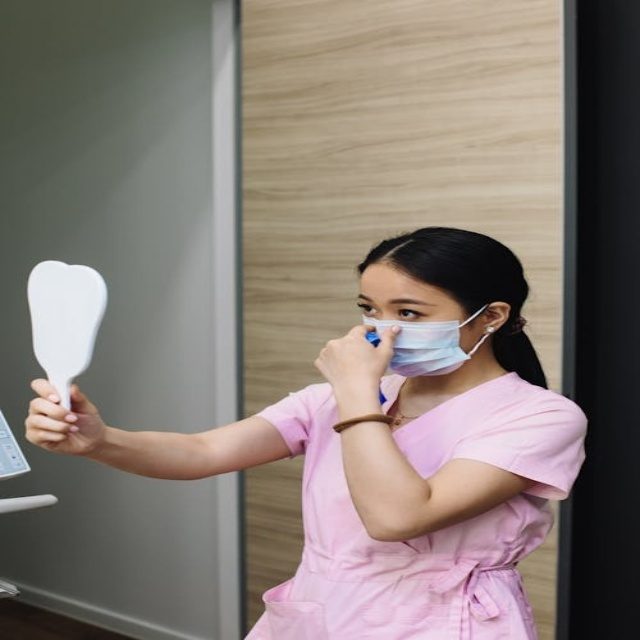Mascara: (359, 304, 487, 378)
Sin_gafas: (353, 290, 442, 323)
Sin_guantes: (312, 322, 404, 403), (24, 376, 106, 456)
